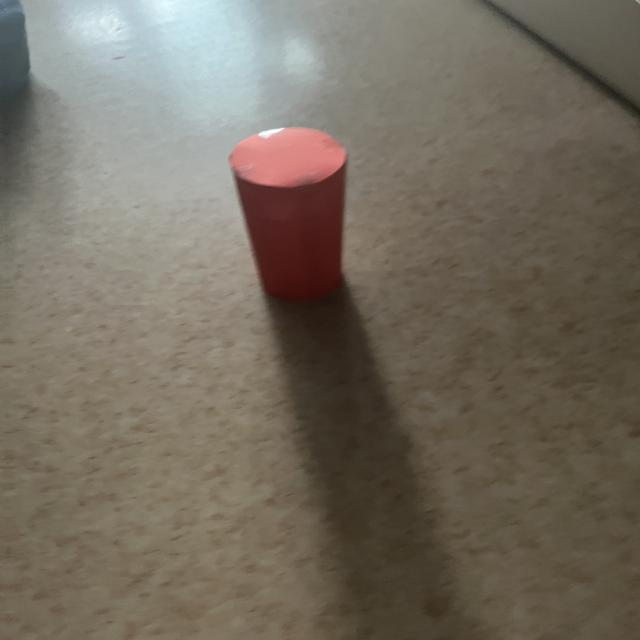przeszkoda: (229, 128, 348, 301)
